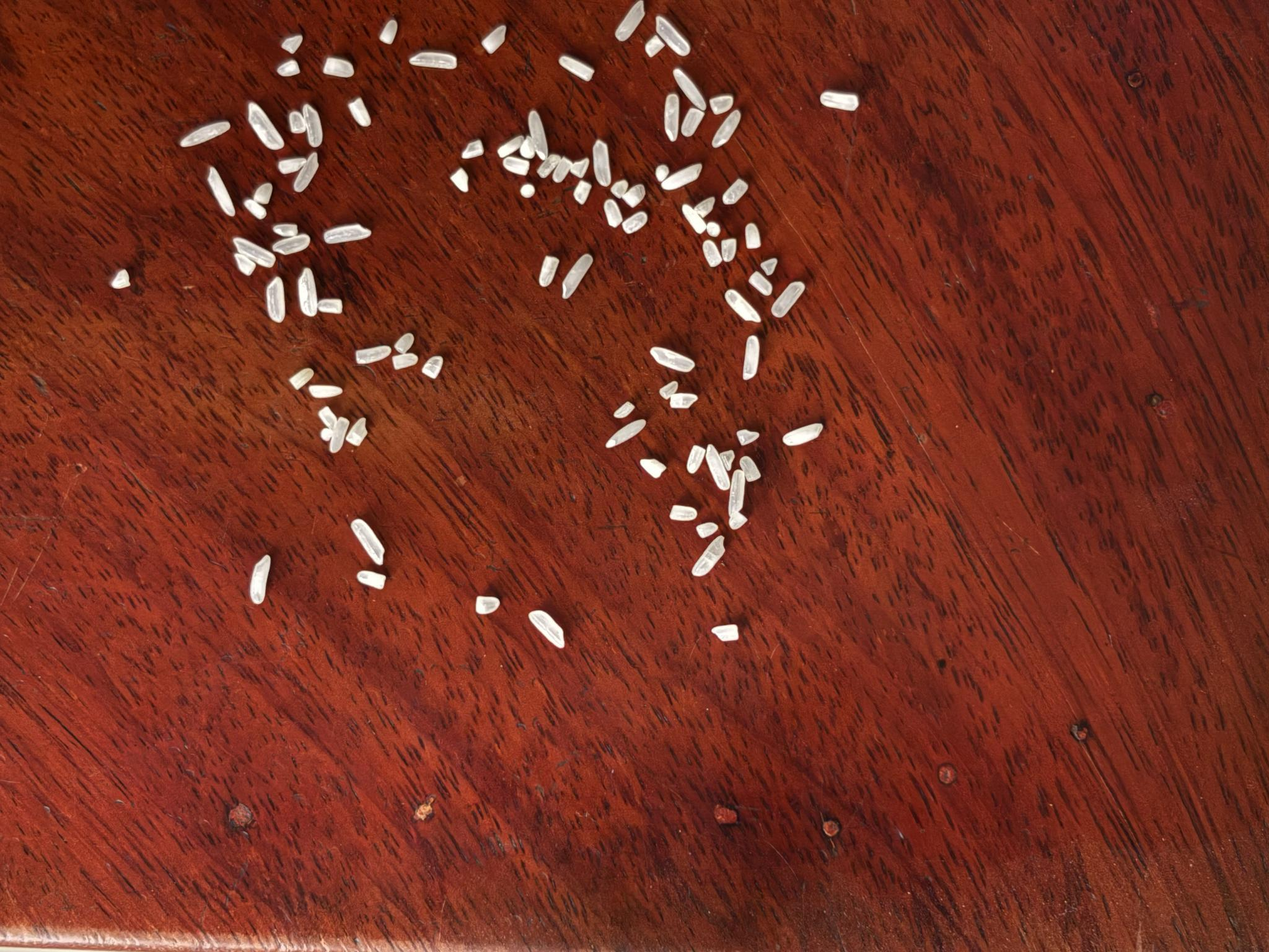Rice-th-y-nh: (246, 100, 285, 151), (558, 252, 595, 301), (351, 516, 386, 566), (672, 66, 709, 113), (691, 533, 727, 580), (605, 413, 647, 453), (699, 443, 733, 492), (661, 158, 703, 197), (770, 277, 806, 321), (656, 92, 687, 143), (527, 609, 566, 649), (655, 15, 692, 57), (782, 416, 824, 452), (649, 344, 696, 376), (206, 167, 236, 217), (710, 107, 744, 151), (724, 288, 763, 326), (586, 140, 617, 187), (179, 120, 231, 148), (614, 0, 647, 43), (736, 334, 766, 381), (410, 46, 458, 74), (233, 237, 276, 268), (722, 469, 751, 514), (820, 84, 859, 117), (525, 110, 551, 159), (323, 221, 372, 247), (247, 555, 272, 604), (293, 152, 321, 193), (297, 267, 319, 316), (535, 253, 563, 288), (558, 55, 594, 82), (679, 106, 707, 140), (272, 233, 311, 256), (303, 104, 323, 148), (681, 203, 708, 235), (601, 197, 626, 229), (354, 345, 392, 366), (722, 177, 749, 206), (684, 443, 708, 475), (322, 55, 354, 79), (621, 182, 648, 210), (482, 24, 507, 54), (621, 210, 649, 236), (474, 593, 502, 619), (496, 134, 525, 159), (700, 239, 724, 269), (329, 417, 349, 453), (501, 154, 531, 178), (669, 389, 699, 413), (356, 568, 387, 591), (536, 152, 562, 179), (748, 270, 774, 297), (708, 91, 735, 117), (347, 98, 371, 127), (739, 455, 763, 483), (741, 222, 764, 251), (711, 621, 740, 644), (346, 417, 368, 447), (639, 456, 666, 480), (670, 501, 697, 525), (551, 157, 574, 184), (571, 179, 594, 206), (718, 236, 740, 264), (693, 195, 717, 220), (277, 156, 307, 175), (422, 355, 445, 379), (735, 426, 760, 448), (716, 447, 738, 472), (379, 19, 400, 45), (727, 508, 749, 532), (569, 156, 591, 180), (289, 368, 314, 389), (392, 351, 418, 371), (309, 384, 343, 399), (233, 253, 256, 275), (253, 182, 275, 205), (517, 136, 538, 160), (644, 35, 665, 59), (461, 139, 485, 160), (450, 168, 470, 193), (272, 221, 299, 239), (244, 198, 267, 219), (695, 520, 719, 540), (287, 110, 307, 134), (318, 296, 343, 315), (394, 333, 415, 355), (658, 379, 679, 401), (318, 406, 338, 429), (609, 177, 629, 200), (759, 256, 780, 277), (281, 34, 303, 54), (277, 60, 300, 78), (613, 401, 635, 419), (653, 161, 671, 183), (111, 269, 130, 289), (705, 220, 721, 239), (519, 183, 536, 199), (320, 427, 333, 442)
